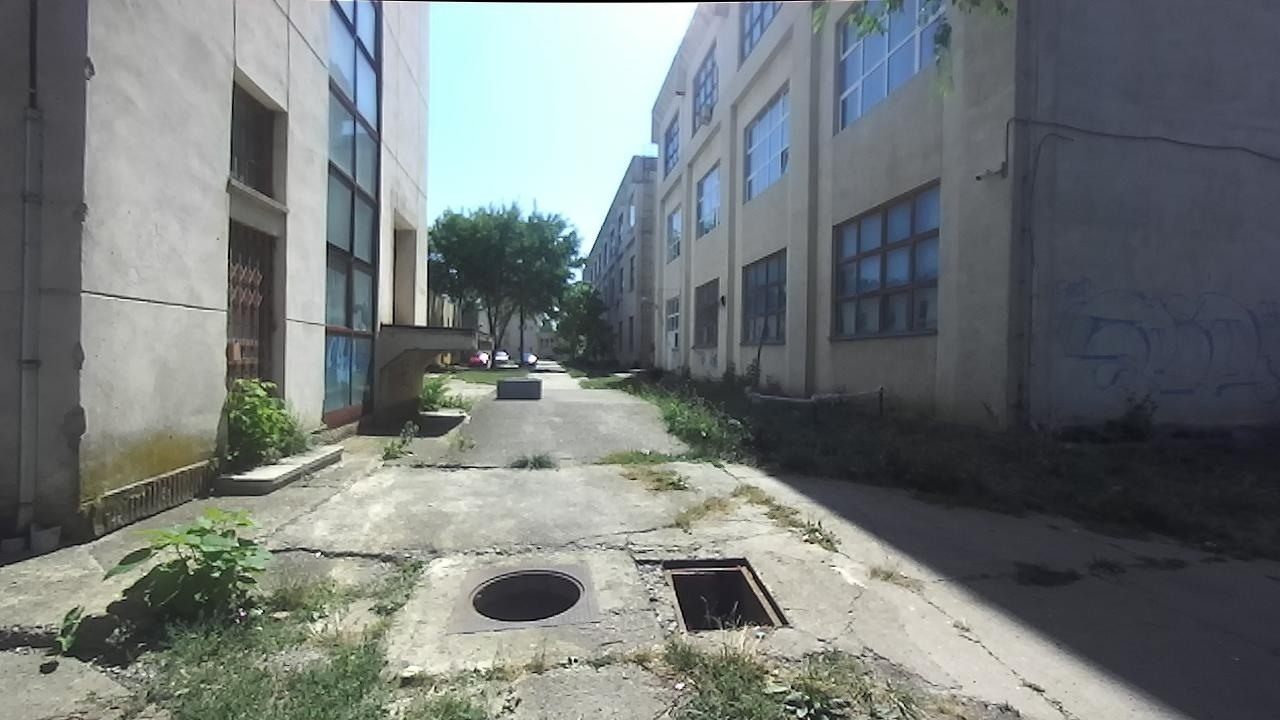drain: (658, 552, 796, 635), (461, 563, 588, 624)
